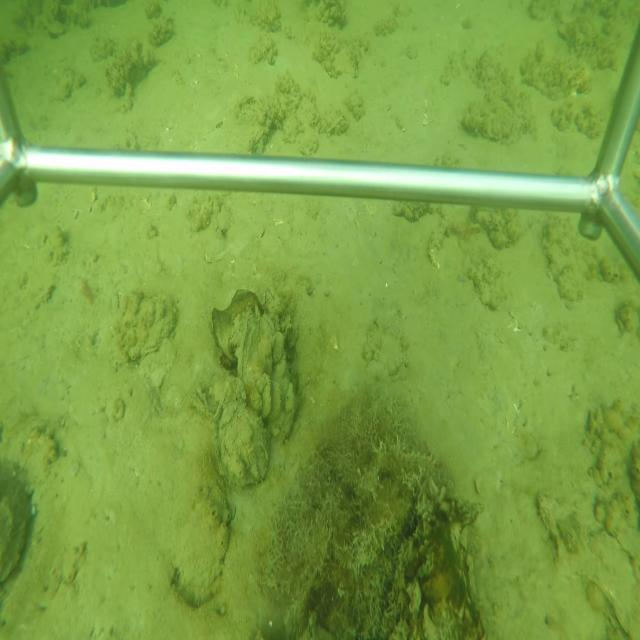Oyster-Closed: (121, 290, 180, 366)
Oyster-Indeterminate: (217, 398, 271, 493), (240, 318, 272, 412), (461, 94, 517, 145)
